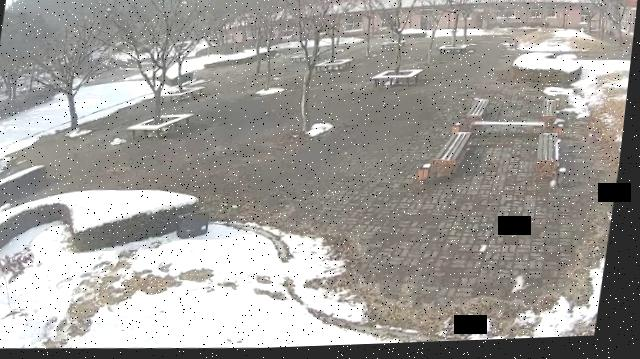bag: (181, 209, 217, 241)
